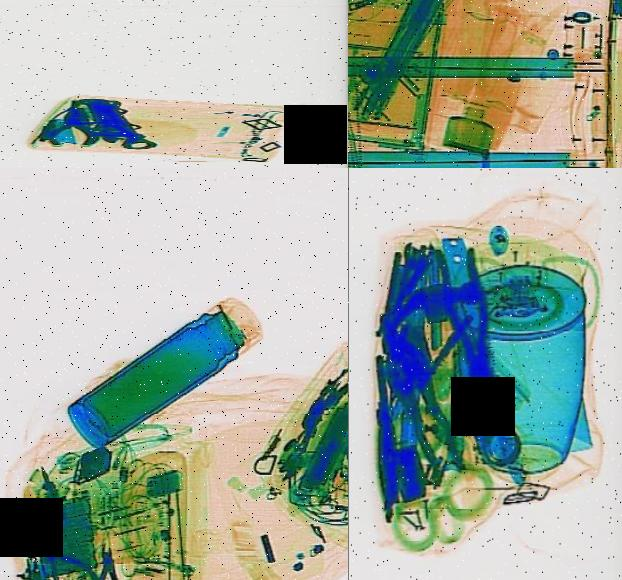Pliers: (435, 233, 508, 417), (47, 551, 158, 580), (50, 106, 105, 146), (92, 541, 136, 580)
Wrench: (86, 98, 160, 151)
